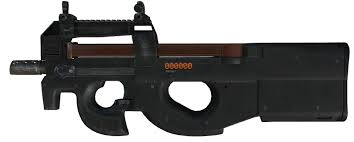gun: (7, 0, 351, 137)
